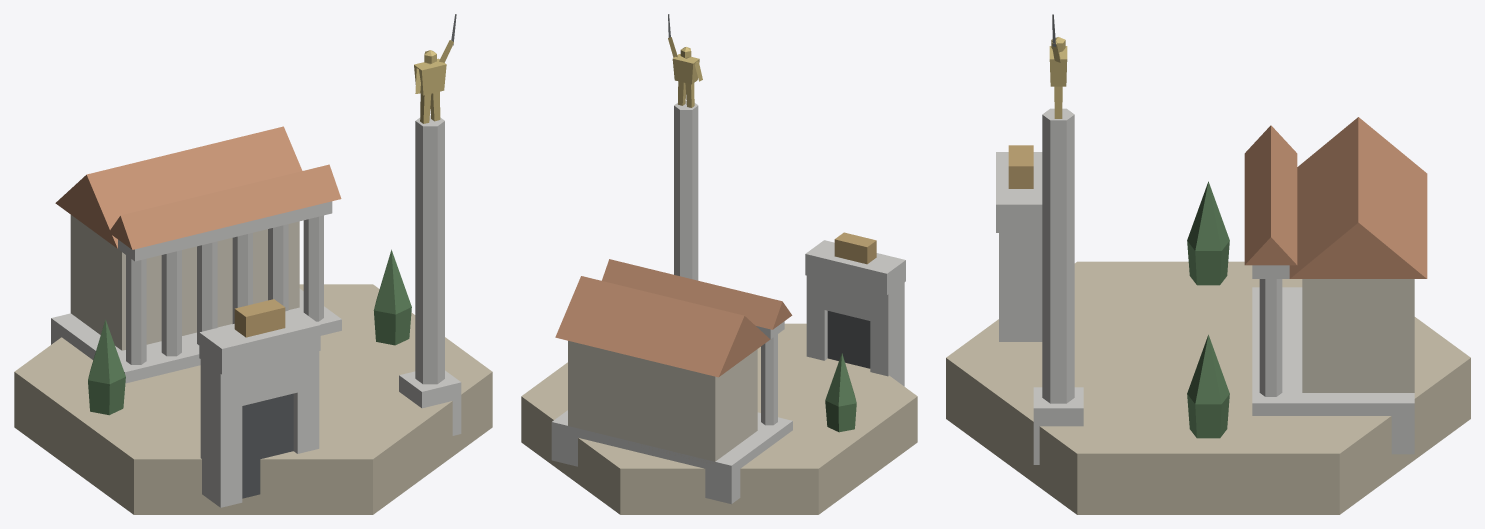
File: center-classical.glb
The picture shows the model from 3 angles, left to right: view 1: azimuth 30°, elevation 25°; view 2: azimuth 150°, elevation 25°; view 3: azimuth 270°, elevation 25°; orthographic projection. The views are drawn at different scales.
Visible parts, largest first — view 1: LOD0; view 2: LOD0; view 3: LOD0.
Boxes of the visible parts, bbox=[...] form: LOD0: bbox=[14, 14, 492, 514]; LOD0: bbox=[521, 14, 917, 514]; LOD0: bbox=[946, 14, 1470, 514].
Size of what is drawn, in the model's own units: 0.3637 by 0.4195 by 0.42.
